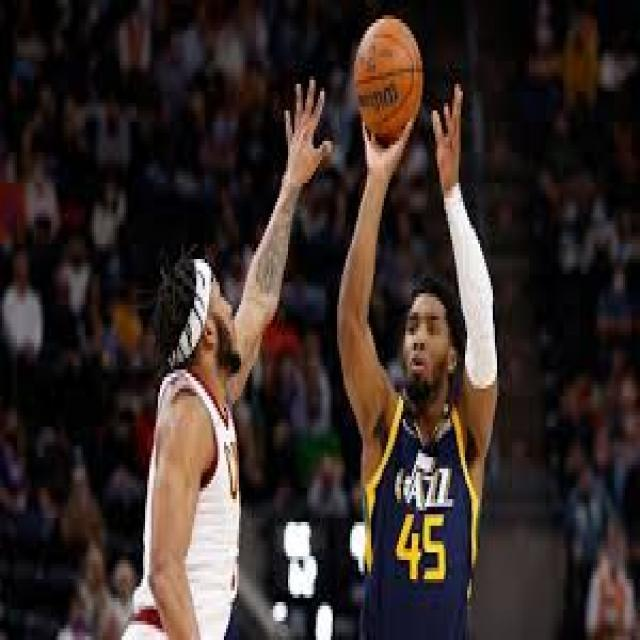ball: (354, 18, 422, 135)
